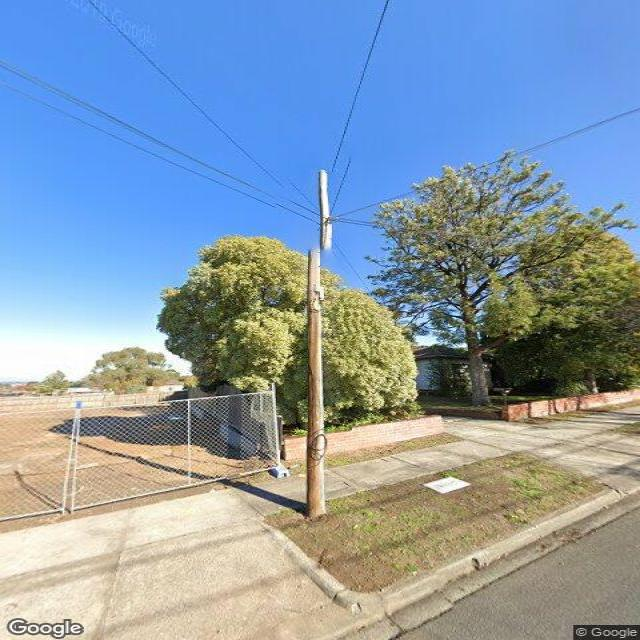timber-pole: (305, 168, 332, 520)
